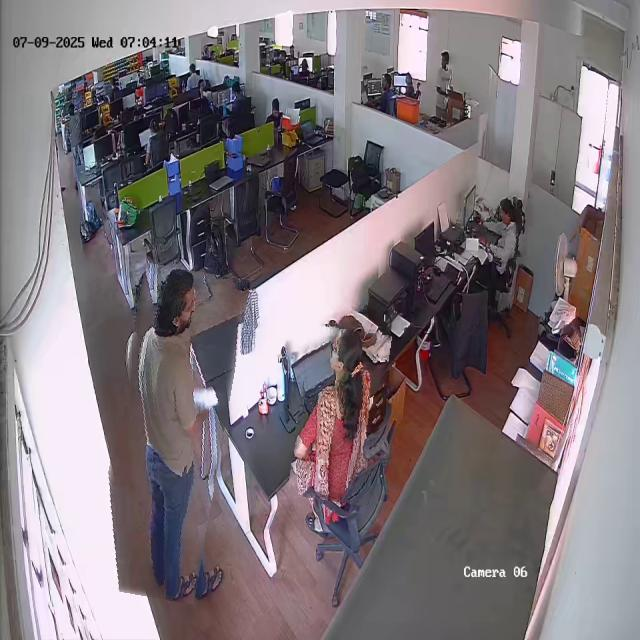person: (102, 266, 237, 601), (293, 328, 386, 504), (480, 197, 525, 261)
